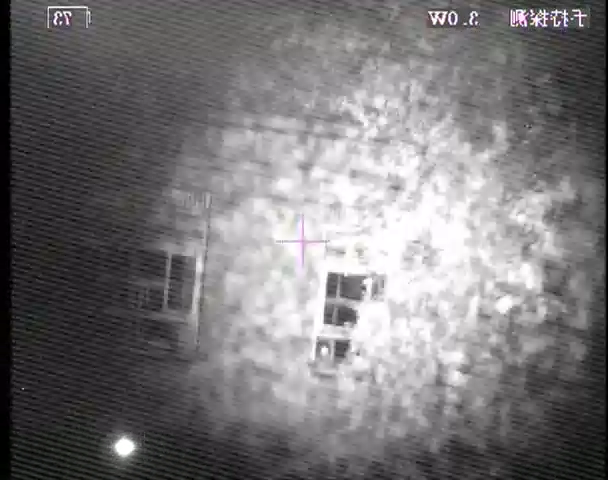my: (318, 344, 330, 359)
